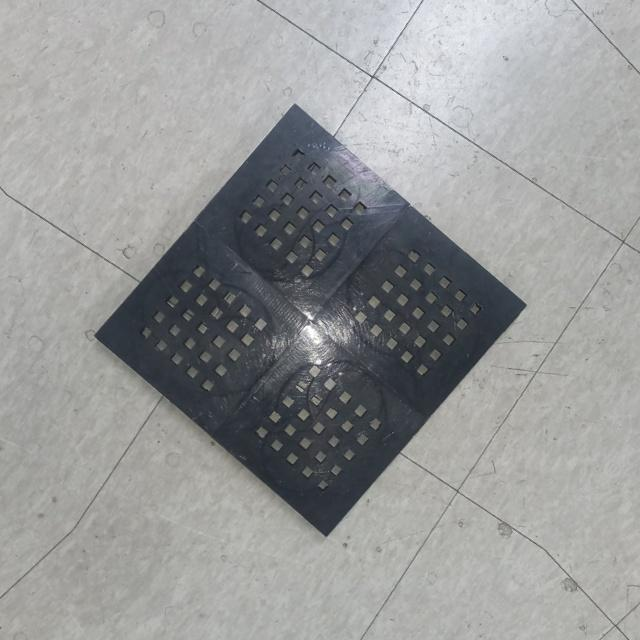pallet: (81, 92, 539, 549)
